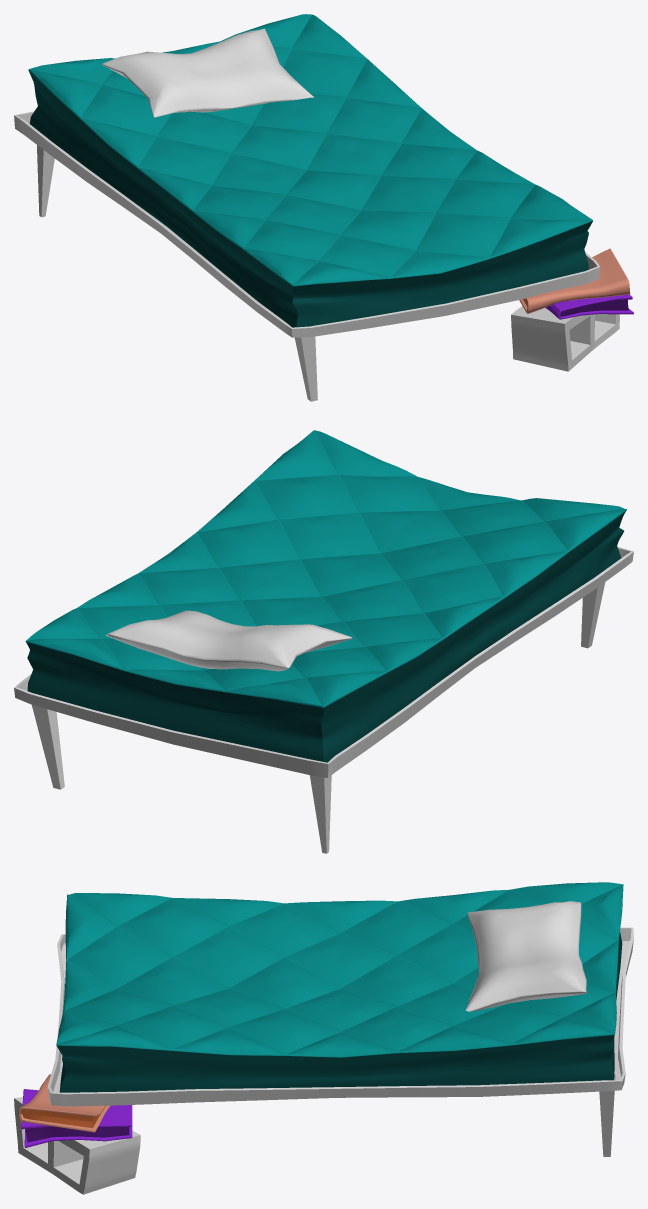
Rendered from Bed.fbx.
The picture shows the model from 3 angles, top to bottom: view 1: azimuth 30°, elevation 25°; view 2: azimuth 150°, elevation 25°; view 3: azimuth 270°, elevation 25°; orthographic projection. The views are drawn at different scales.
Visible parts, largest first — view 1: bed_mattress, pillow, frame, cinderblock, book_top, book_bottom, bottom_leg, top_L_corner_leg; view 2: bed_mattress, frame, pillow, top_R_corner_leg, top_L_corner_leg, bottom_leg; view 3: bed_mattress, pillow, frame, cinderblock, book_bottom, book_top, top_R_corner_leg.
Boxes of the visible parts, x1=… form: bed_mattress: x1=28, y1=14, x2=592, y2=327; pillow: x1=102, y1=28, x2=313, y2=117; frame: x1=14, y1=111, x2=600, y2=337; cinderblock: x1=511, y1=306, x2=619, y2=371; book_top: x1=519, y1=248, x2=630, y2=313; book_bottom: x1=545, y1=294, x2=633, y2=319; bottom_leg: x1=294, y1=336, x2=317, y2=401; top_L_corner_leg: x1=37, y1=145, x2=54, y2=217; bed_mattress: x1=25, y1=430, x2=626, y2=762; frame: x1=14, y1=547, x2=633, y2=777; pillow: x1=106, y1=610, x2=352, y2=671; top_R_corner_leg: x1=32, y1=705, x2=64, y2=789; top_L_corner_leg: x1=309, y1=775, x2=331, y2=853; bottom_leg: x1=581, y1=582, x2=605, y2=648; bed_mattress: x1=56, y1=882, x2=623, y2=1092; pillow: x1=465, y1=901, x2=587, y2=1011; frame: x1=47, y1=927, x2=633, y2=1106; cinderblock: x1=14, y1=1097, x2=140, y2=1194; book_bottom: x1=21, y1=1089, x2=132, y2=1147; book_top: x1=18, y1=1074, x2=110, y2=1132; top_R_corner_leg: x1=599, y1=1074, x2=615, y2=1156.
Size of the model in its own units: 138 by 62.75 by 211.
